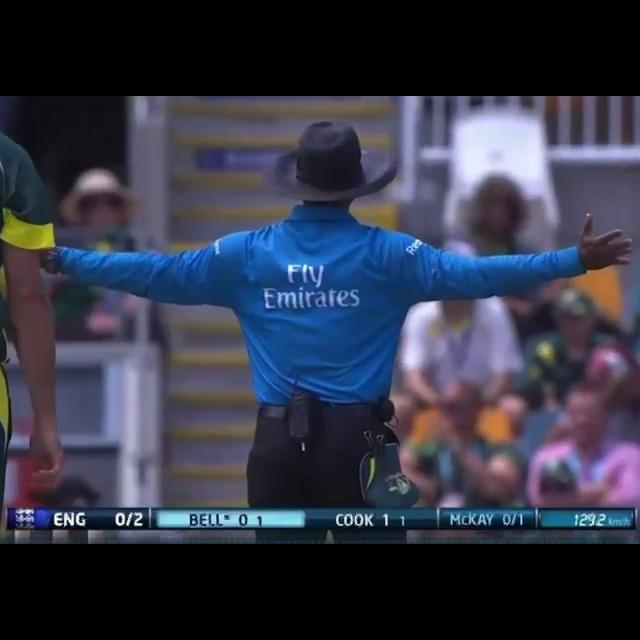umpire: (51, 126, 637, 493)
